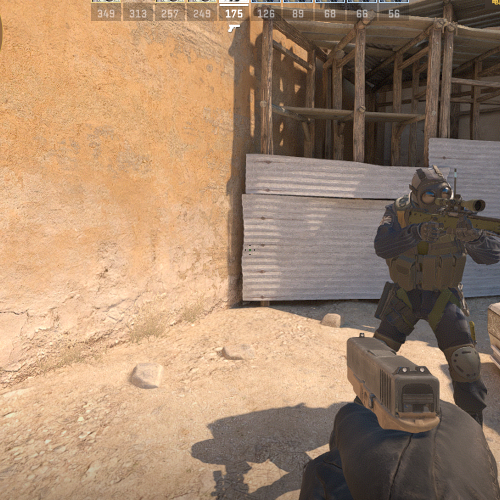ct_body: (370, 166, 487, 435)
ct_head: (411, 167, 452, 214)
